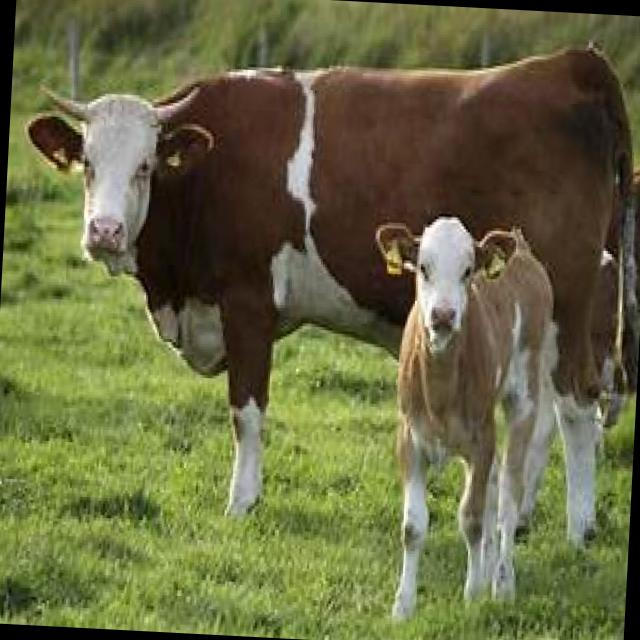animal: (6, 10, 640, 548), (356, 210, 560, 630)
